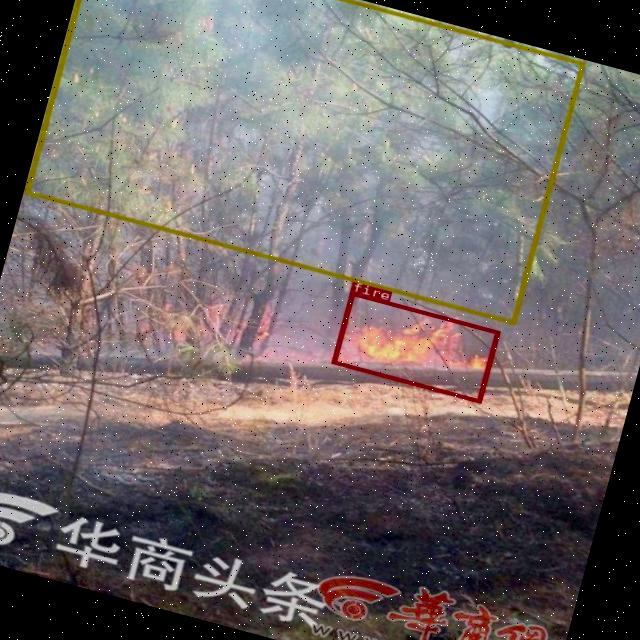fire: (330, 290, 499, 403)
smoke: (23, 0, 584, 323)
